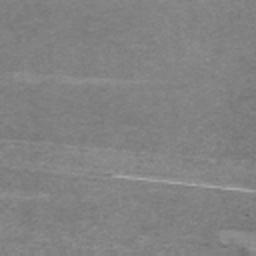Finishing roll printing: (113, 174, 255, 195)
